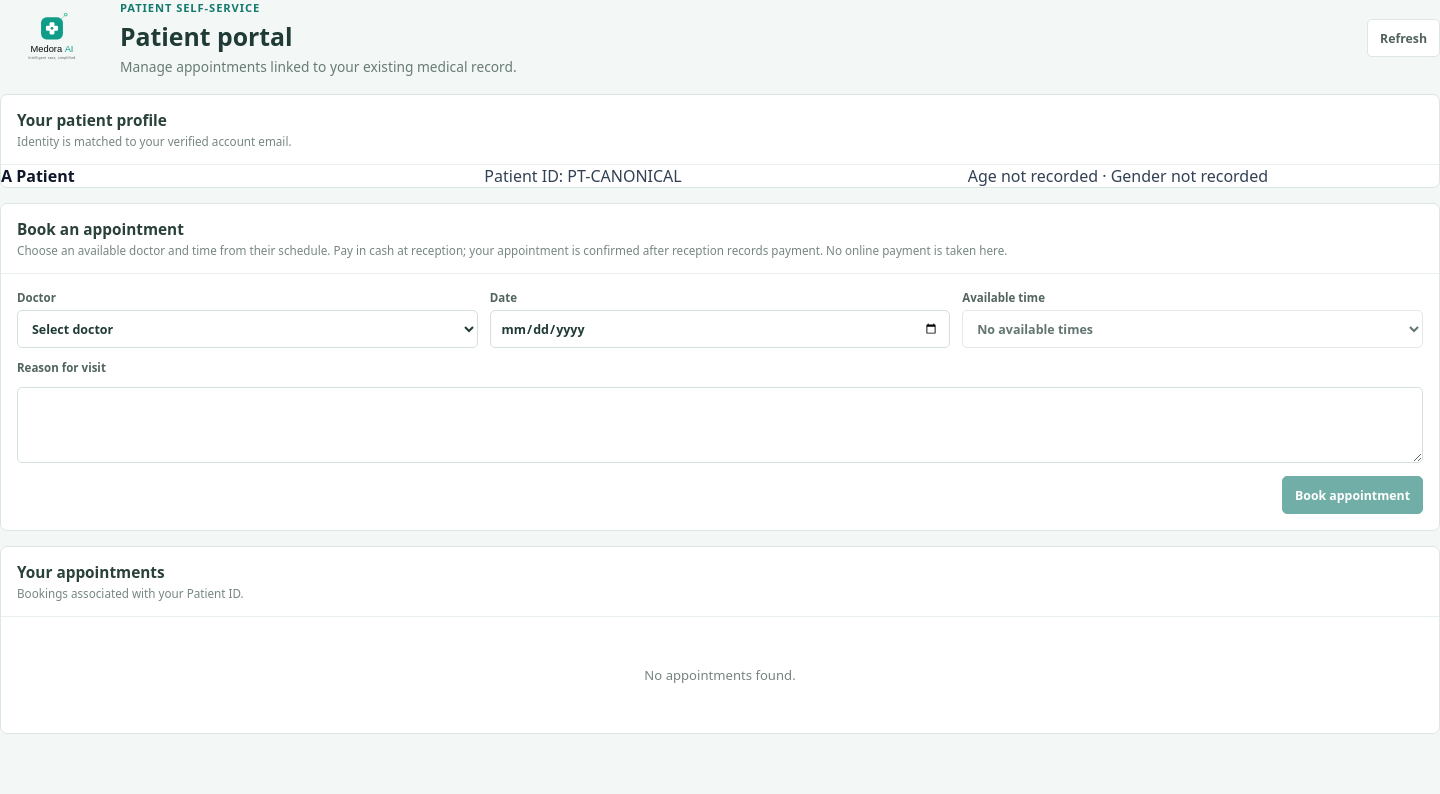
Scenario: shows actionable booking error details returned by the API
The width and height of the screenshot is (1440, 794).
Select "Dr. Example · Cardiology" in the dropdown labelled "Doctor" at {"x": 247, "y": 329}, box [17,310,478,348]
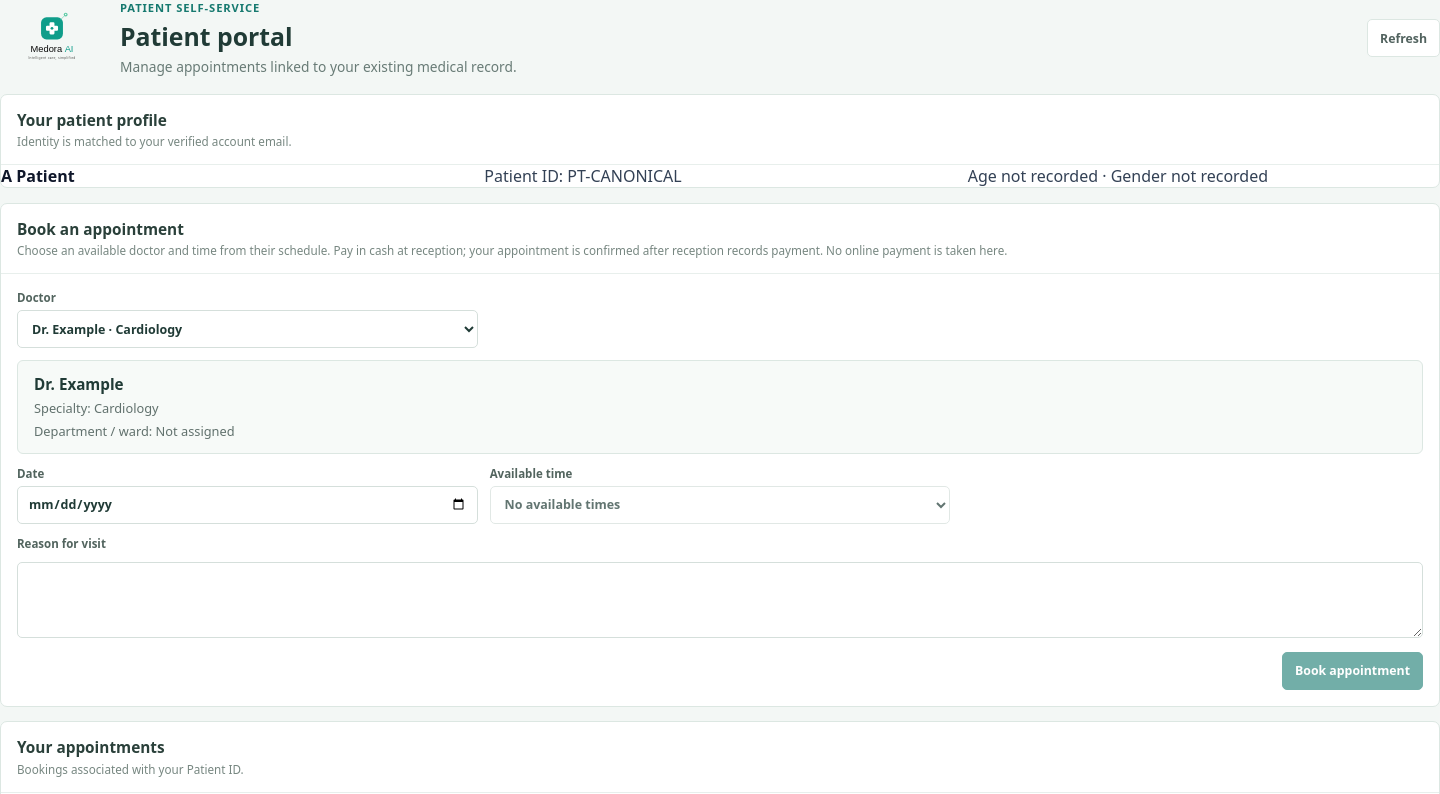
Type "2030-01-03" into the date field labelled "Date" at {"x": 247, "y": 505}, box [17,486,478,524]
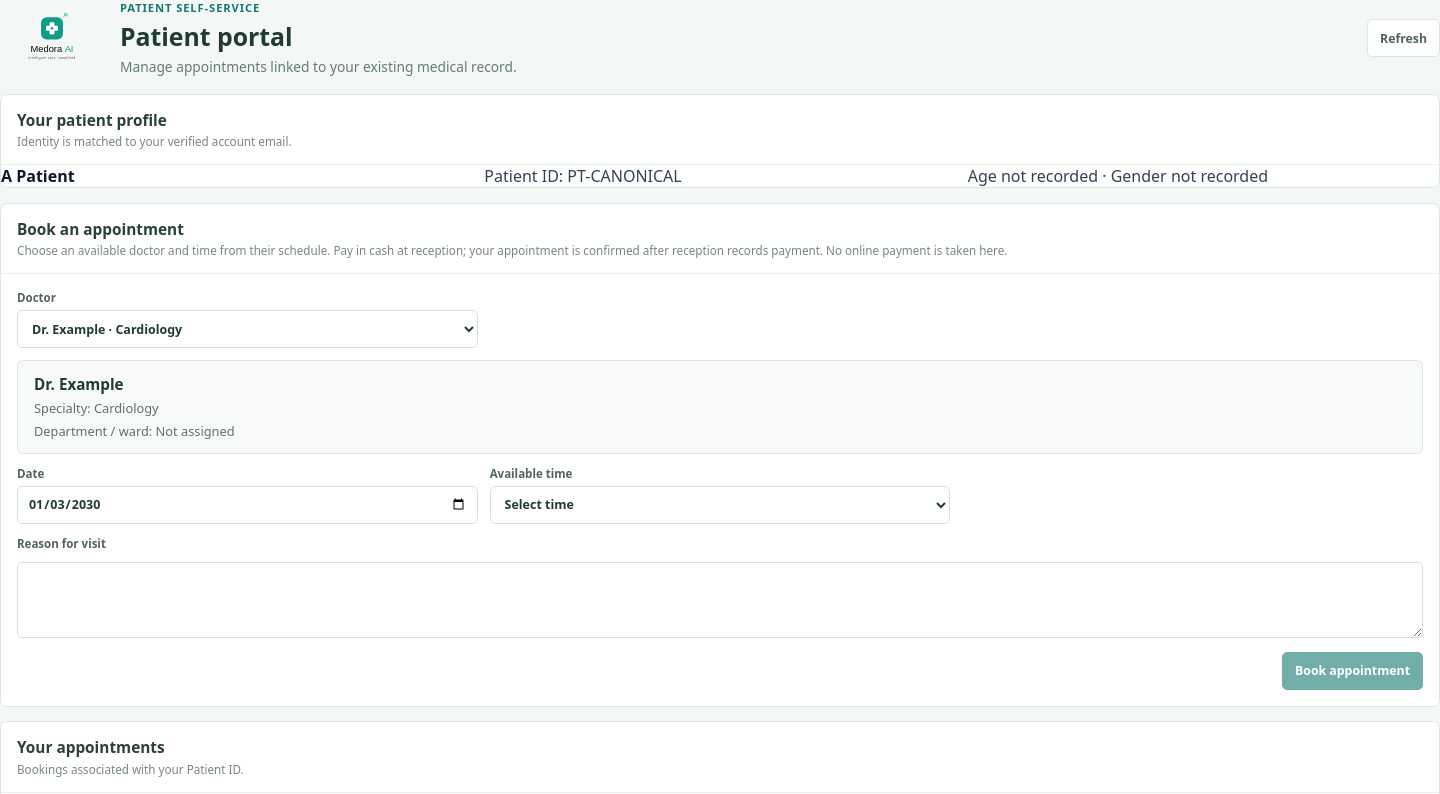
Select "10:00 AM" in the dropdown labelled "Available time" at {"x": 720, "y": 505}, box [490,486,950,524]
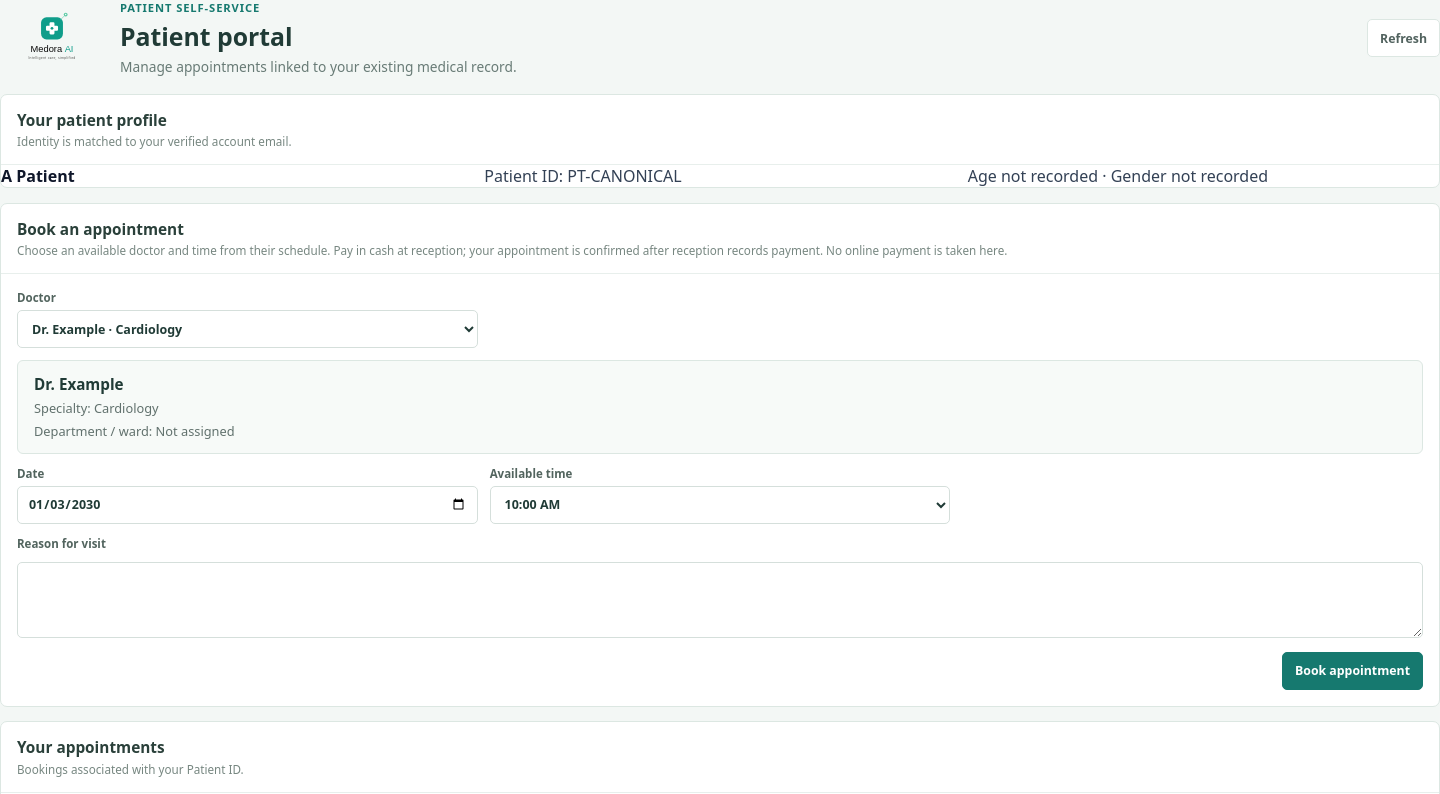
Click the button "Book appointment" at {"x": 1352, "y": 671}, box [1282,652,1423,690]
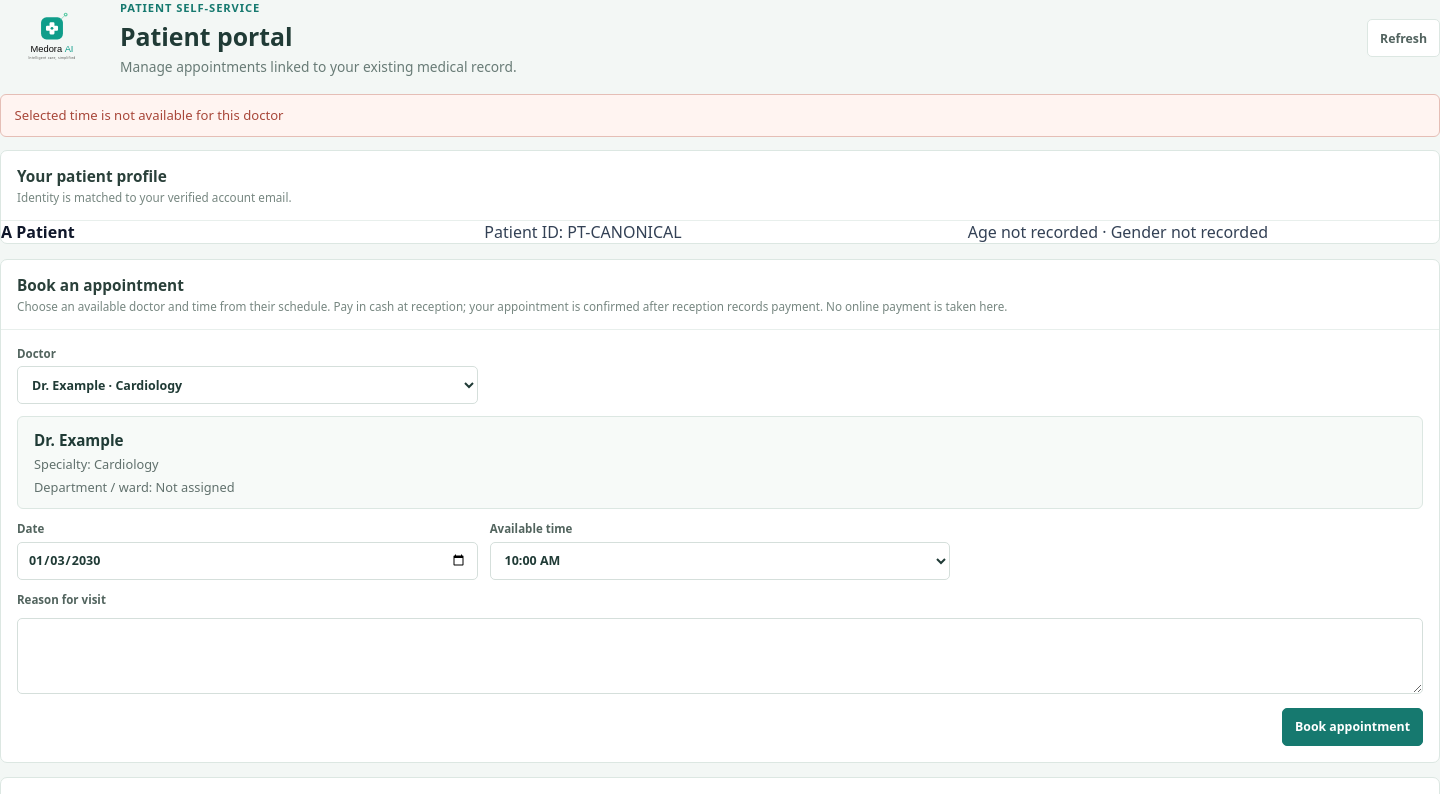
Expected: the message reads "Selected time is not available for this doctor", [15,106,284,124]
